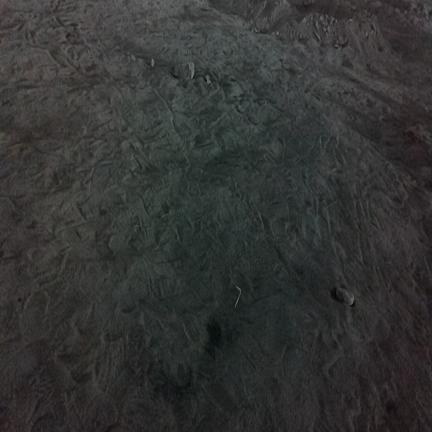Rock: (171, 62, 195, 80), (337, 285, 354, 305), (371, 0, 382, 8), (205, 74, 211, 84), (314, 32, 320, 41), (131, 54, 136, 62), (151, 58, 154, 67), (276, 31, 279, 36), (321, 16, 323, 21)
